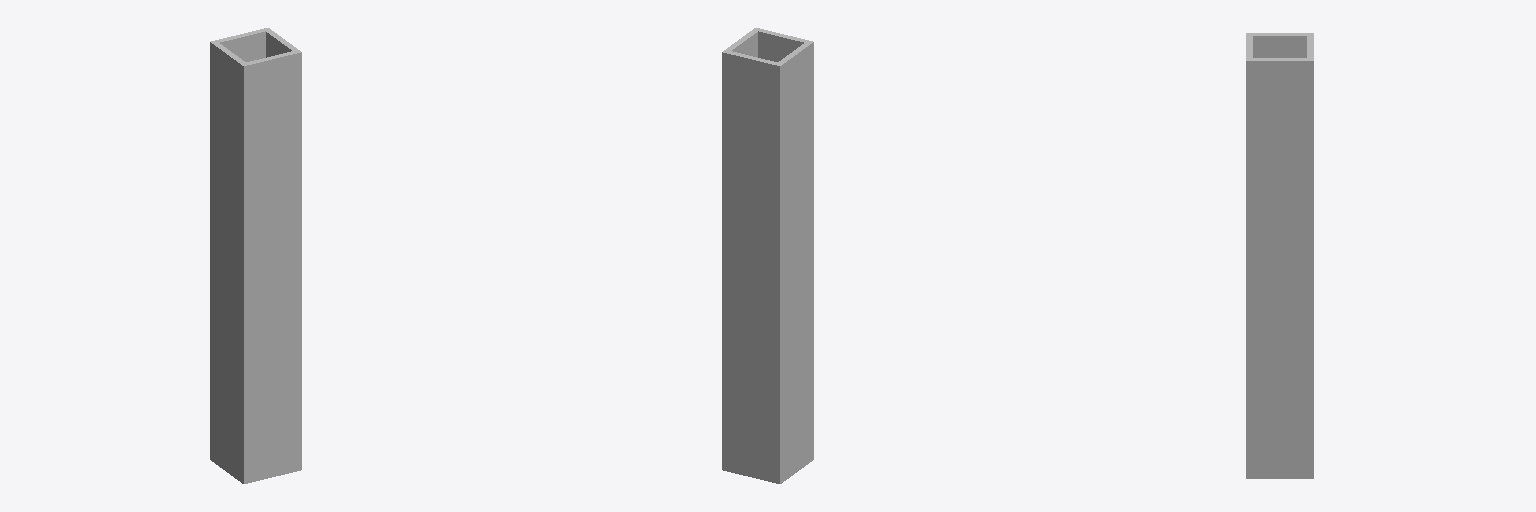
The model's file is longTube.obj.
3 renders of one model, left to right at view 1: azimuth 30°, elevation 25°; view 2: azimuth 150°, elevation 25°; view 3: azimuth 270°, elevation 25°, orthographic.
Visible parts, largest first — view 1: Cube; view 2: Cube; view 3: Cube.
Part boxes in pixels (x1,y1,x2,y2): Cube: (210, 28, 301, 483); Cube: (722, 28, 813, 483); Cube: (1246, 33, 1313, 478).
Bounding box in the file's own units: 2 × 13.69 × 2.